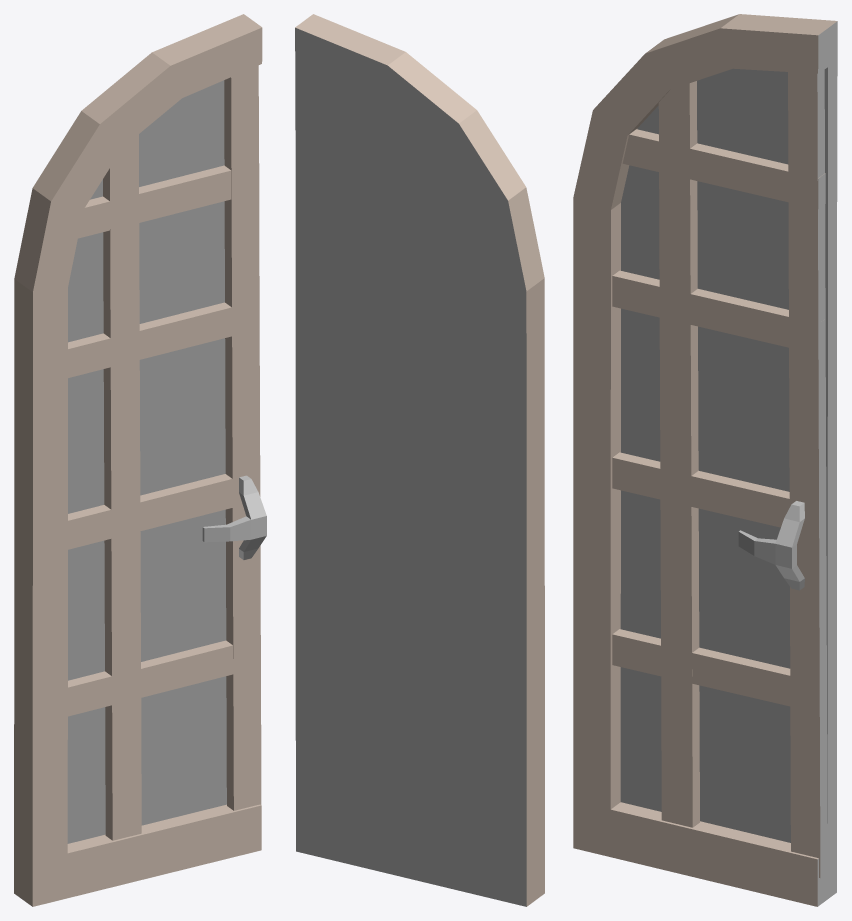
The model's file is Atelier_modular_arc_outside_door_right.fbx.
3 views of the same model, side by side, from view 1: azimuth 30°, elevation 25°; view 2: azimuth 150°, elevation 25°; view 3: azimuth 330°, elevation 25° (orthographic). The views are drawn at different scales.
Visible parts, largest first — view 1: Atelier_modular_arc_outside_door_right; view 2: Atelier_modular_arc_outside_door_right; view 3: Atelier_modular_arc_outside_door_right.
Part boxes in pixels (x1,y1,x2,y2): Atelier_modular_arc_outside_door_right: [14, 14, 266, 906]; Atelier_modular_arc_outside_door_right: [295, 14, 544, 906]; Atelier_modular_arc_outside_door_right: [573, 14, 837, 906].
Size of the model in its own units: 75.32 by 256 by 18.7.
Materials: 3 (2 with a texture image).
